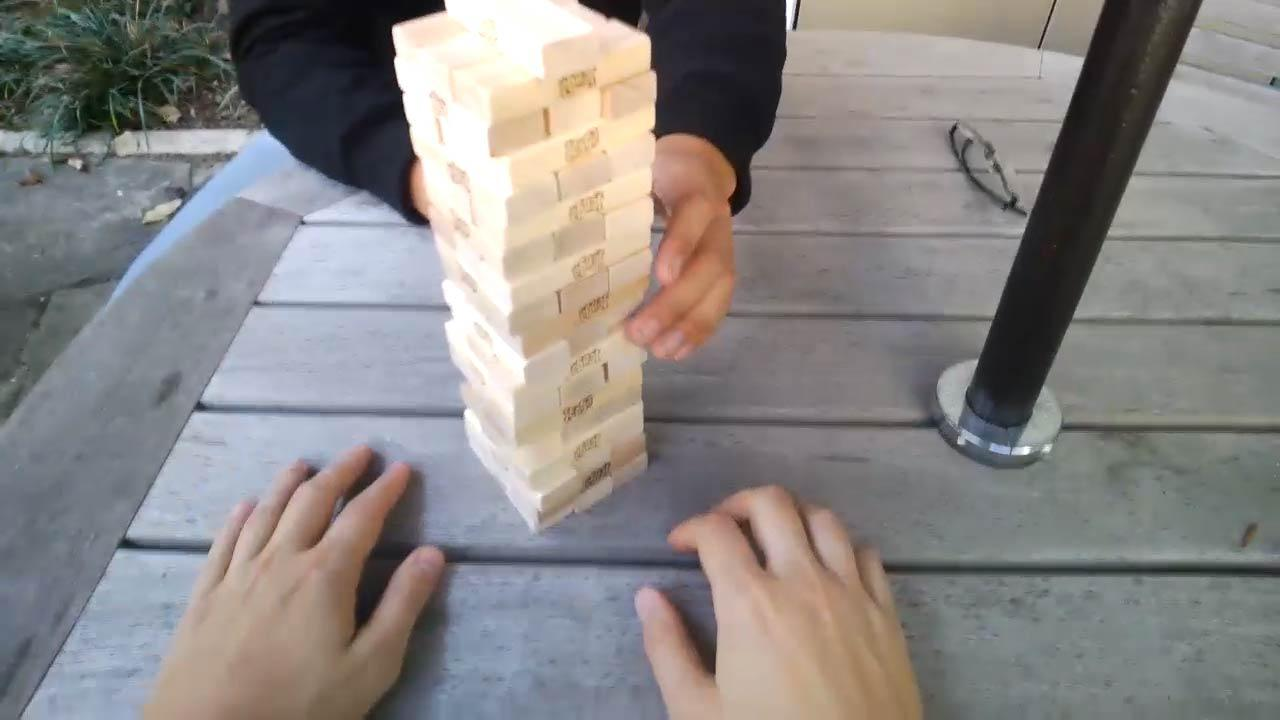hand: (171, 441, 447, 720), (622, 480, 929, 720), (653, 137, 735, 411)
